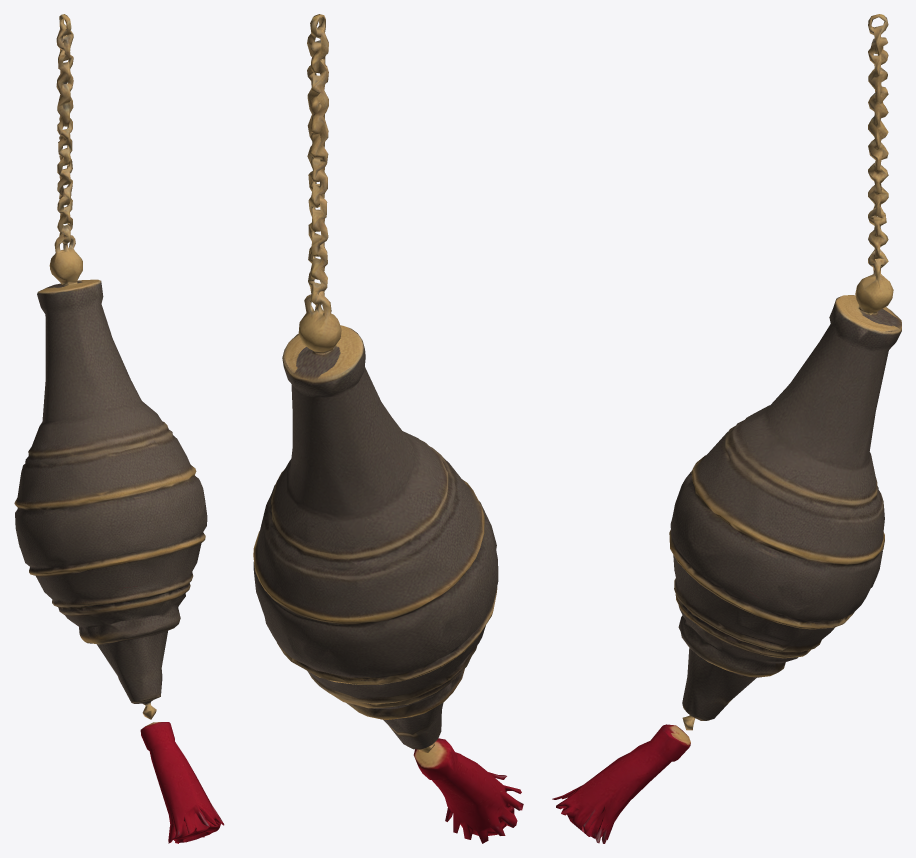
The model's file is nhang-khoanh-dong.glb.
3 renders of one model, left to right at view 1: azimuth 30°, elevation 25°; view 2: azimuth 150°, elevation 25°; view 3: azimuth 270°, elevation 25°, orthographic. The views are drawn at different scales.
Size of the model in its own units: 0.4451 by 1.9 by 0.7308.
1 material, 1 textured.
